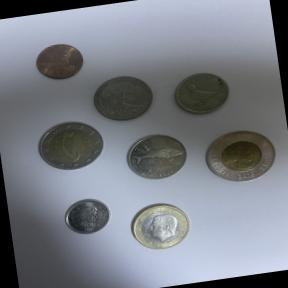coin: (193, 115, 288, 195), (117, 192, 204, 262), (29, 115, 109, 178), (116, 127, 196, 188), (87, 70, 160, 128), (24, 32, 96, 90), (54, 190, 118, 244)
